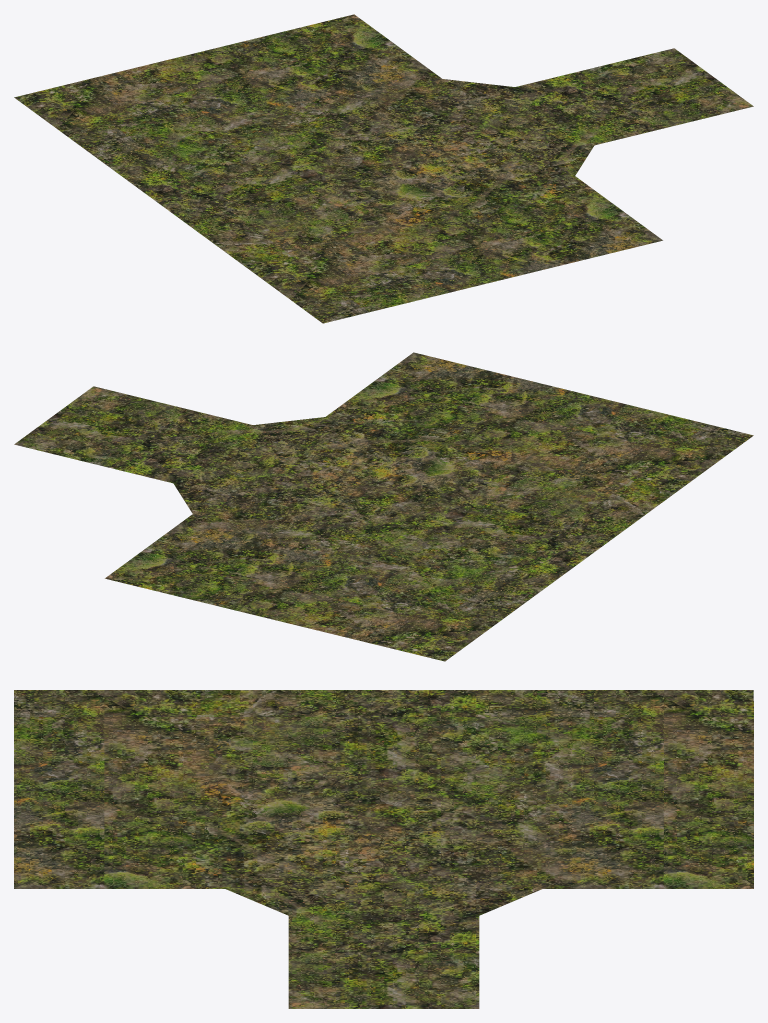
File: Planter_DirtPlane_Unique04.FBX
The picture shows the model from 3 angles, top to bottom: view 1: azimuth 30°, elevation 25°; view 2: azimuth 150°, elevation 25°; view 3: azimuth 270°, elevation 25°; orthographic projection. The views are drawn at different scales.
Visible parts, largest first — view 1: Planter_DirtPlane_Unique04; view 2: Planter_DirtPlane_Unique04; view 3: Planter_DirtPlane_Unique04.
Boxes of the visible parts, bbox=[...] form: Planter_DirtPlane_Unique04: bbox=[14, 14, 753, 323]; Planter_DirtPlane_Unique04: bbox=[14, 352, 753, 661]; Planter_DirtPlane_Unique04: bbox=[14, 690, 753, 1008].
Bounding box in the file's own units: 5.4 × 1.5e-15 × 5.29.
